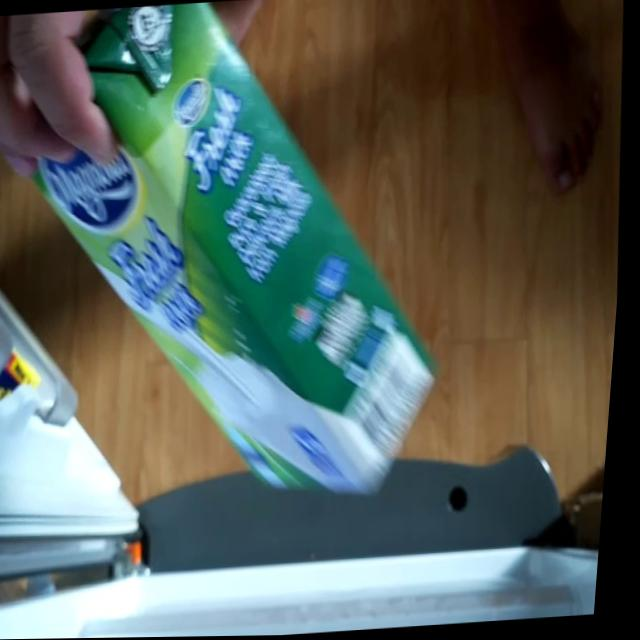milk: (0, 0, 479, 536)
